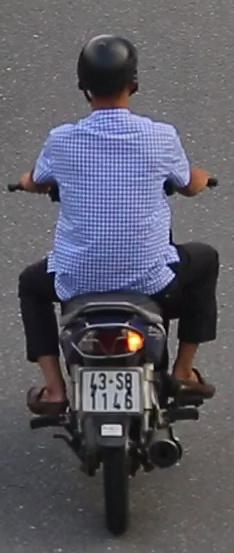LP: (81, 366, 144, 419)
helmet: (72, 30, 144, 128)
